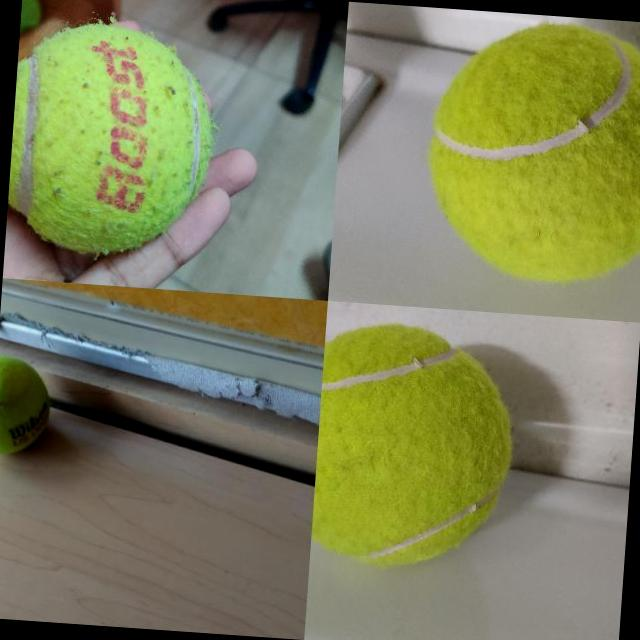Tennis Ball: (414, 9, 640, 293), (309, 316, 524, 574), (5, 18, 218, 258), (0, 353, 55, 458)
